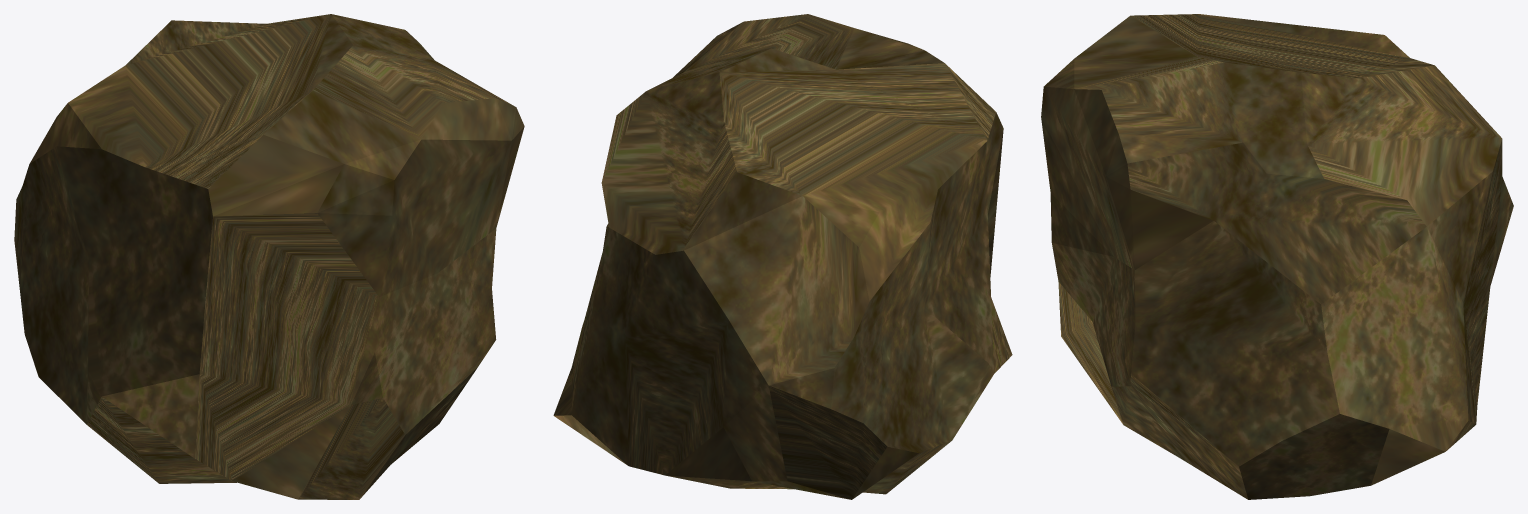
3 views of the same model, side by side, from view 1: azimuth 30°, elevation 25°; view 2: azimuth 150°, elevation 25°; view 3: azimuth 270°, elevation 25° (orthographic). The views are drawn at different scales.
Visible parts, largest first — view 1: Cube; view 2: Cube; view 3: Cube.
Boxes of the visible parts, left/top/right/bottom form: Cube: left=14, top=14, right=524, bottom=499; Cube: left=553, top=14, right=1012, bottom=499; Cube: left=1041, top=14, right=1513, bottom=499.
Bounding box in the file's own units: 4.01 × 4.31 × 4.33.
1 material, 1 textured.
